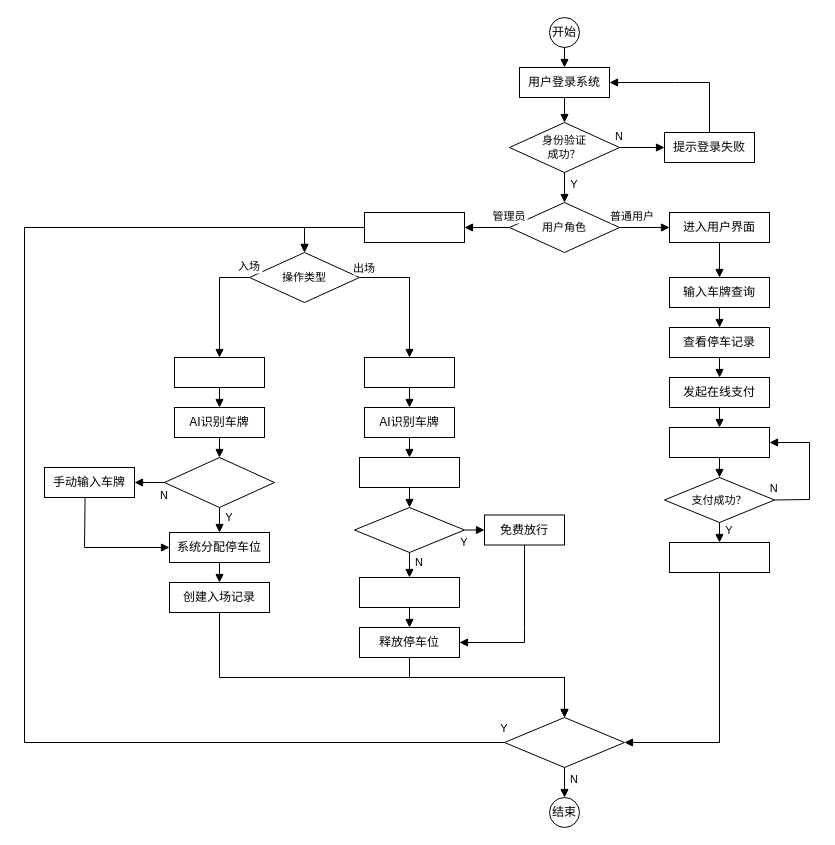
Image size: 835x845. Some labels were removed from this diagram. The centre of each missing label's shape, as x and y in pixels:
上传入场图像: point 219,372
上传出场图像: point 409,372
是否继续 操作？: point 564,742
更新支付状态: point 719,557
生成支付二维码: point 719,442
等待用户支付: point 409,592
计算停车费用: point 409,472
识别是否 成功？: point 219,482
费用为零？: point 409,529
进入管理员界面: point 414,227
